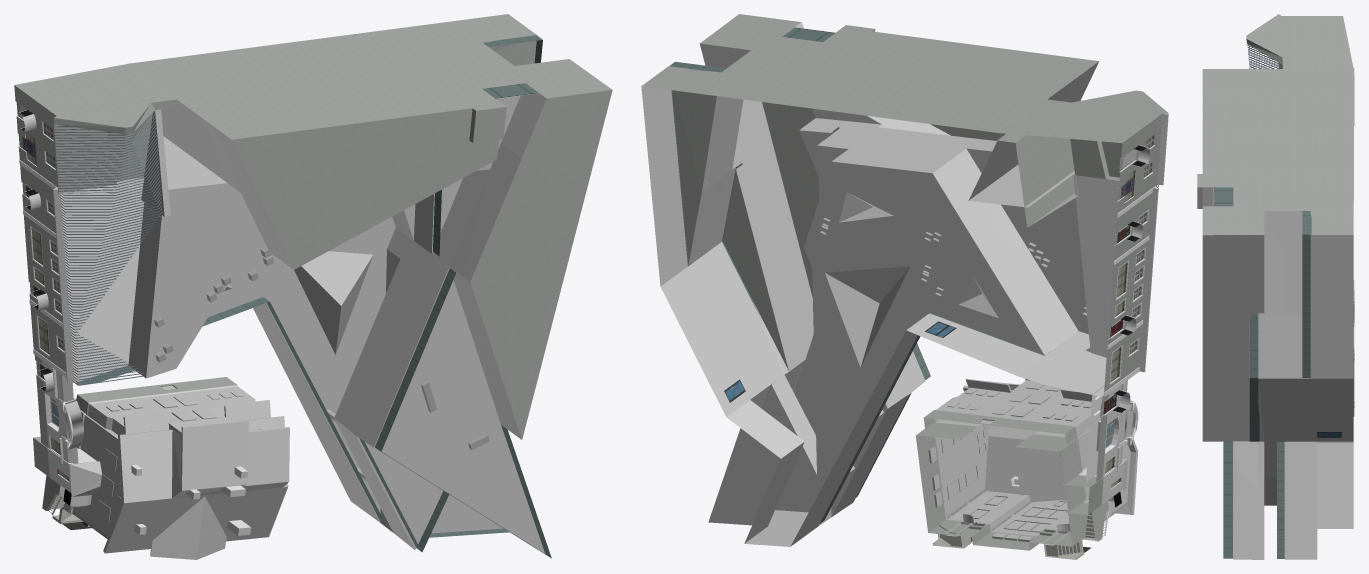
Rendered from Vana-viru_13.obj.
3 views of the same model, side by side, from view 1: azimuth 30°, elevation 25°; view 2: azimuth 150°, elevation 25°; view 3: azimuth 270°, elevation 25° (orthographic). The views are drawn at different scales.
Visible parts, largest first — view 1: Vana_Viru_tn_13; view 2: Vana_Viru_tn_13; view 3: Vana_Viru_tn_13.
Part boxes in pixels (box(x1,y1,x2,y2)): Vana_Viru_tn_13: box(14, 14, 612, 559); Vana_Viru_tn_13: box(641, 14, 1168, 559); Vana_Viru_tn_13: box(1197, 14, 1354, 559).
Bounding box in the file's own units: 50.4 × 49.55 × 18.44.
